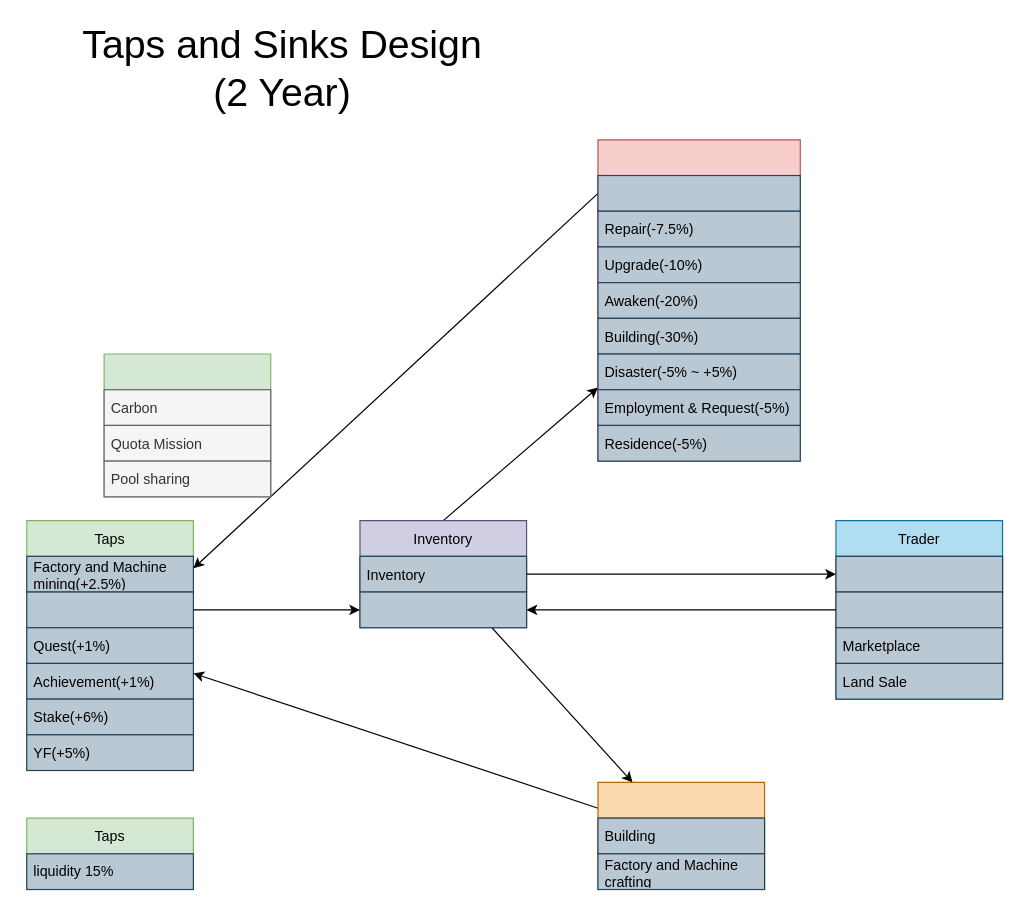
This 1023x910 diagram has some shape labels left out. Here are the shapes that lost their labels. From the top down, the box of each, then its label:
(597, 174, 800, 211): Energy(-7.5%)
(597, 139, 800, 461): Sinks
(103, 353, 271, 497): Relay(Taps)
(835, 555, 1003, 592): Exchange
(26, 591, 193, 628): Mission(+5%)
(359, 591, 527, 628): Storage
(835, 591, 1003, 628): Store
(597, 781, 765, 890): Converter
